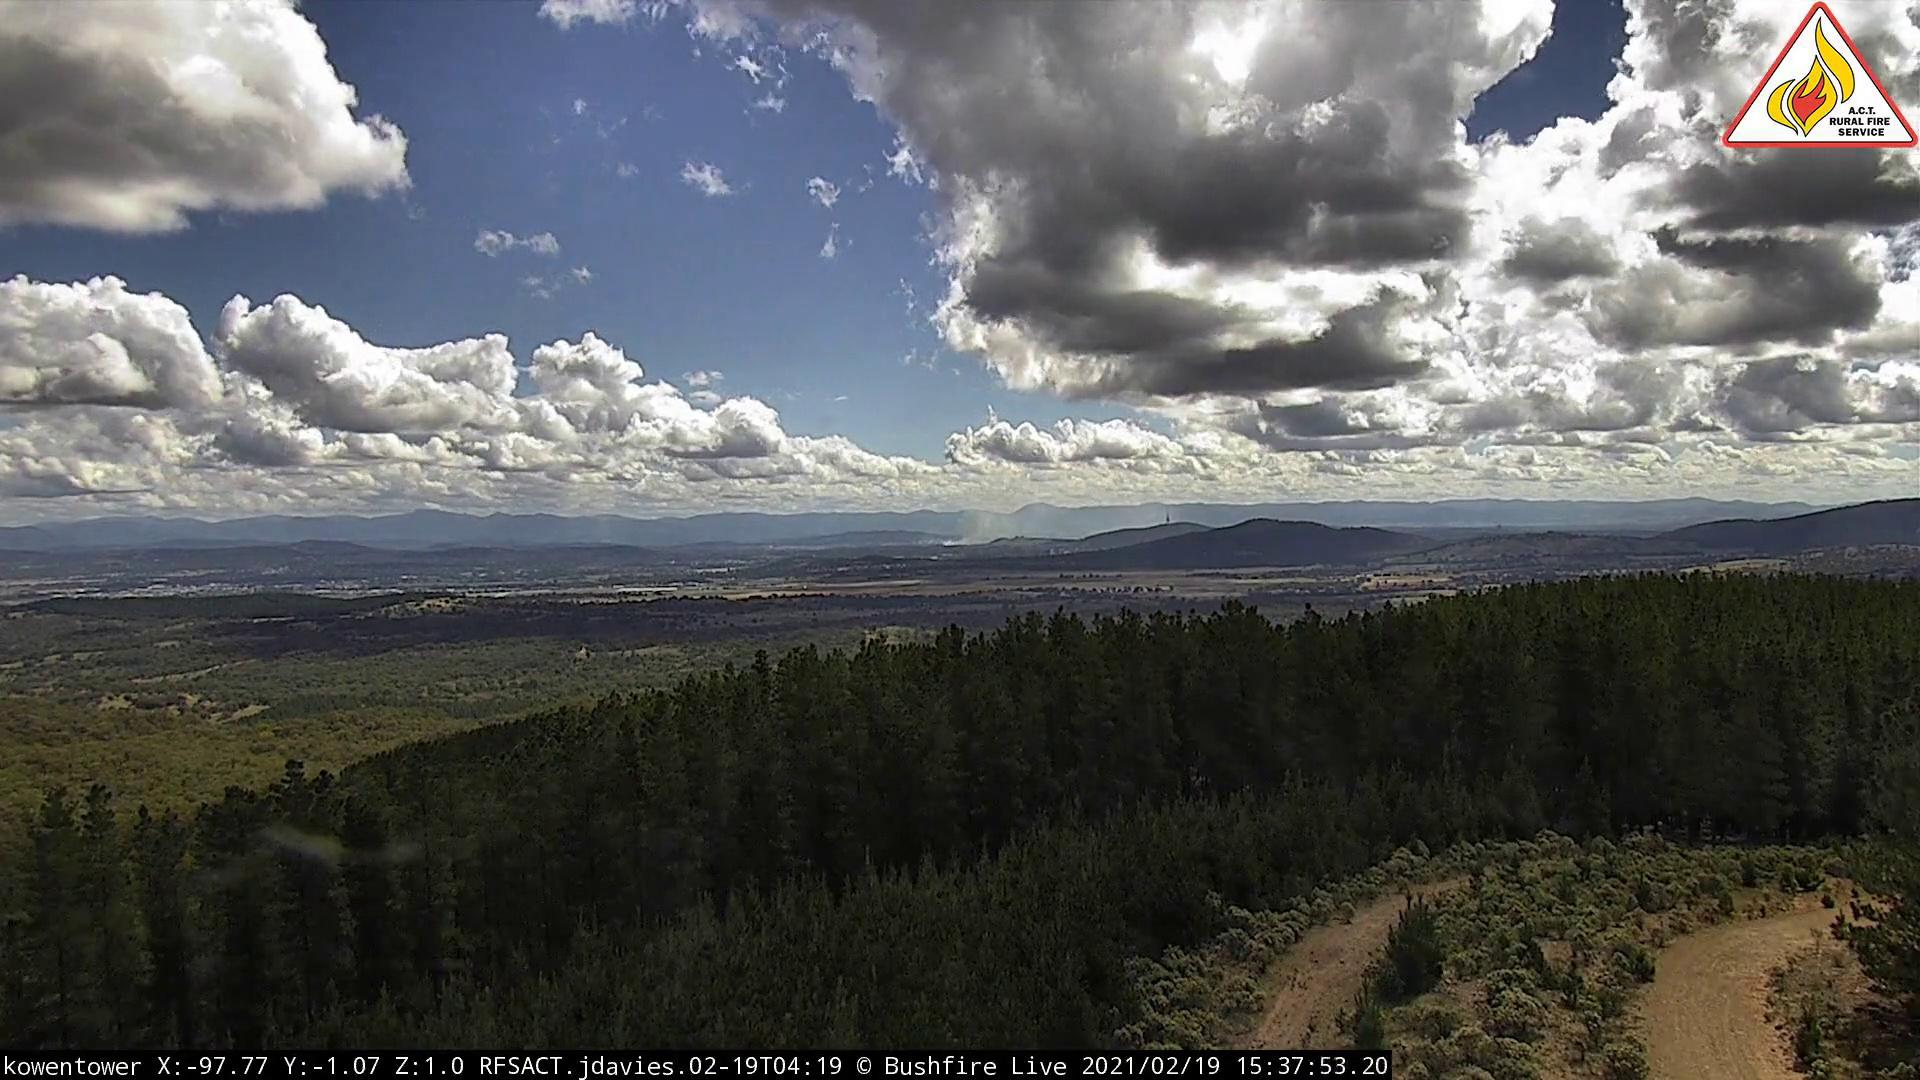Smoke: (942, 495, 1044, 551), (600, 529, 618, 554)
